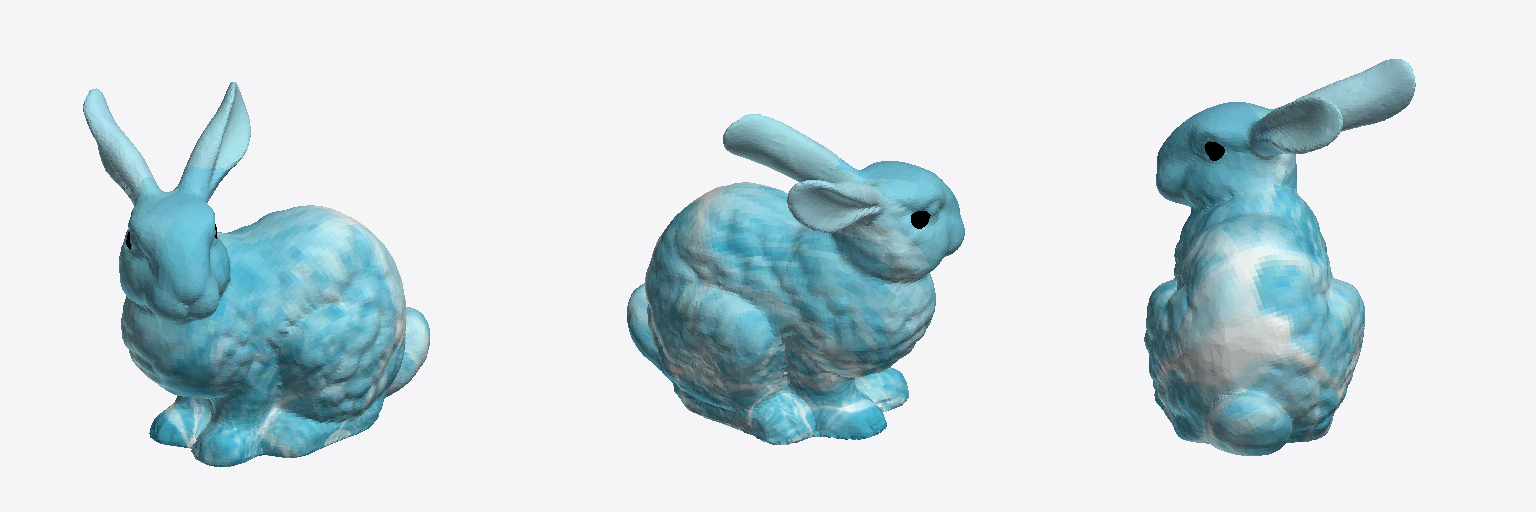
The picture shows the model from 3 angles: view 1: azimuth 30°, elevation 25°; view 2: azimuth 150°, elevation 25°; view 3: azimuth 270°, elevation 25°; orthographic projection.
Visible parts, largest first — view 1: bunny; view 2: bunny; view 3: bunny.
Part boxes in pixels (x1,y1,x2,y2): bunny: (83, 82, 429, 466); bunny: (627, 114, 964, 444); bunny: (1144, 59, 1415, 455).
Bounding box in the file's own units: 1.56 × 1.54 × 1.21.
1 materials, 1 textured.